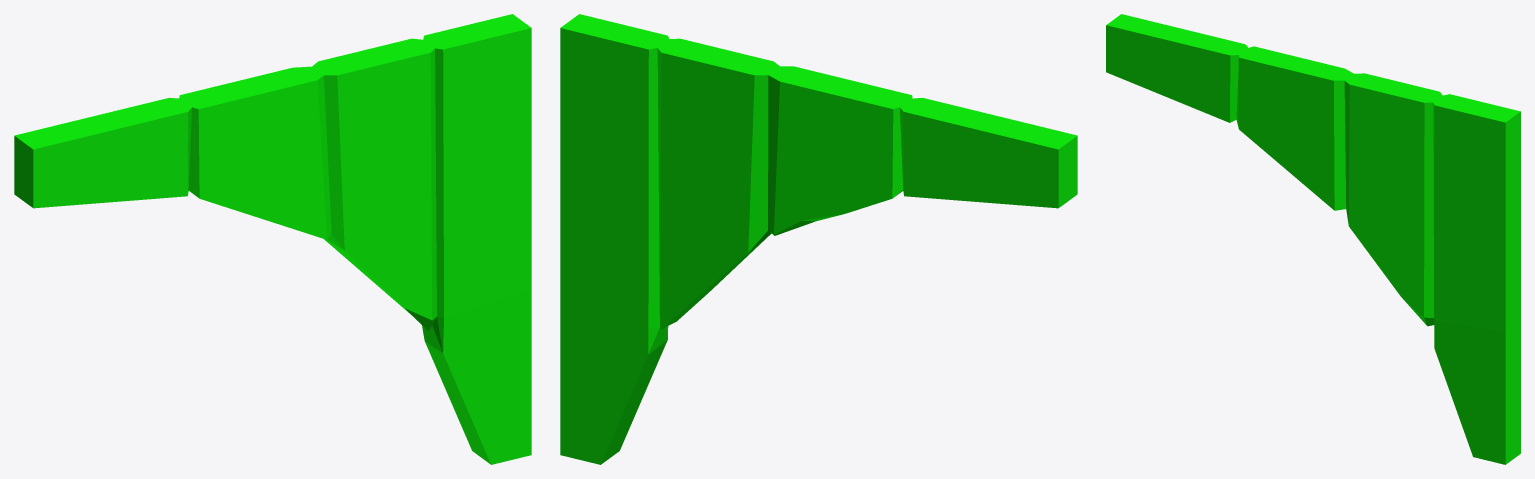
File: SM_Arch_Curve_Half_Wood_C_1x1m.fbx
3 renders of one model, left to right at view 1: azimuth 30°, elevation 25°; view 2: azimuth 150°, elevation 25°; view 3: azimuth 330°, elevation 25°, orthographic. The views are drawn at different scales.
Visible parts, largest first — view 1: arch-curve-half-wood-c-1x1m; view 2: arch-curve-half-wood-c-1x1m; view 3: arch-curve-half-wood-c-1x1m.
Part boxes in pixels (<box>): arch-curve-half-wood-c-1x1m: <box>14,14,531,464</box>; arch-curve-half-wood-c-1x1m: <box>560,14,1077,464</box>; arch-curve-half-wood-c-1x1m: <box>1106,14,1520,464</box>.
Size of the model in its own units: 1.54 by 1.26 by 0.1431.
